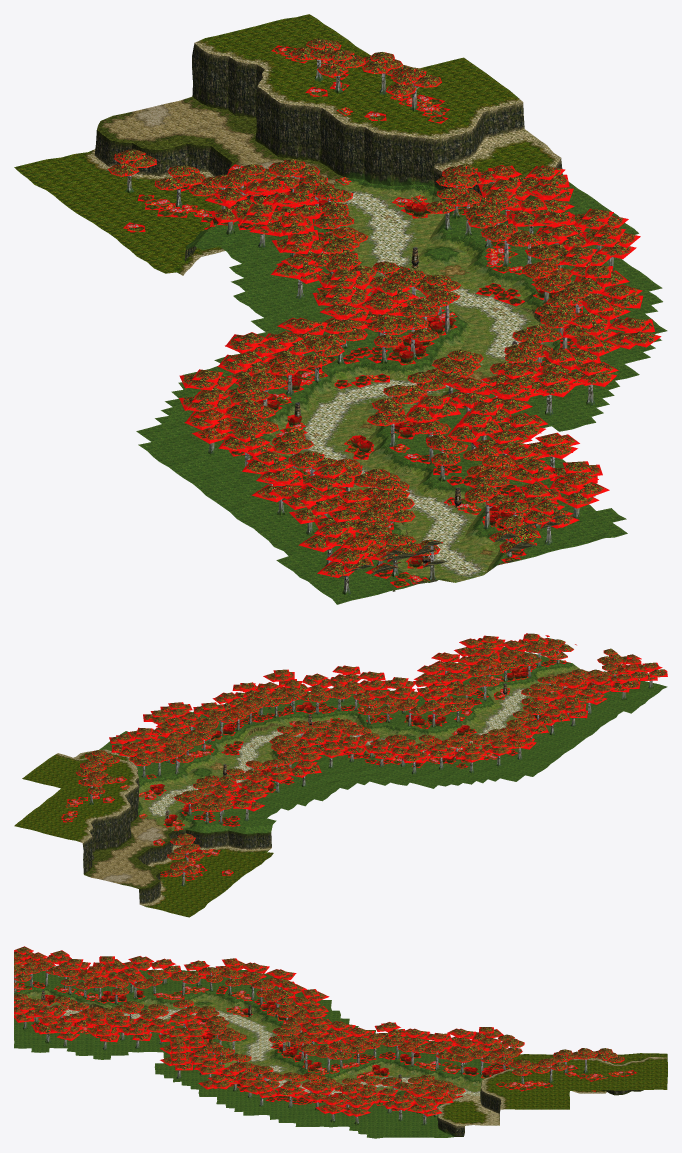
File: WestBoseHighway3.obj
3 renders of one model, top to bottom at view 1: azimuth 30°, elevation 25°; view 2: azimuth 150°, elevation 25°; view 3: azimuth 270°, elevation 25°, orthographic. The views are drawn at different scales.
Parts seen in each view (by area): view 1: Object.014; view 2: Object.014; view 3: Object.014.
Boxes of the visible parts, <box> form: Object.014: <box>14,14,667,604</box>; Object.014: <box>14,633,667,917</box>; Object.014: <box>14,946,667,1138</box>.
Bounding box in the file's own units: 93.84 × 18.14 × 148.
Materials: 18 (18 with a texture image).
